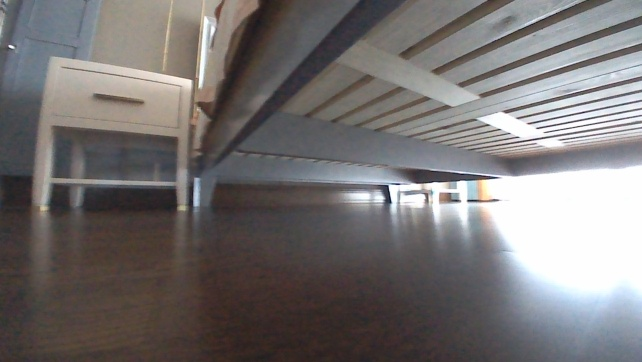bed1: (188, 0, 641, 217)
cabinet: (25, 54, 197, 212)
